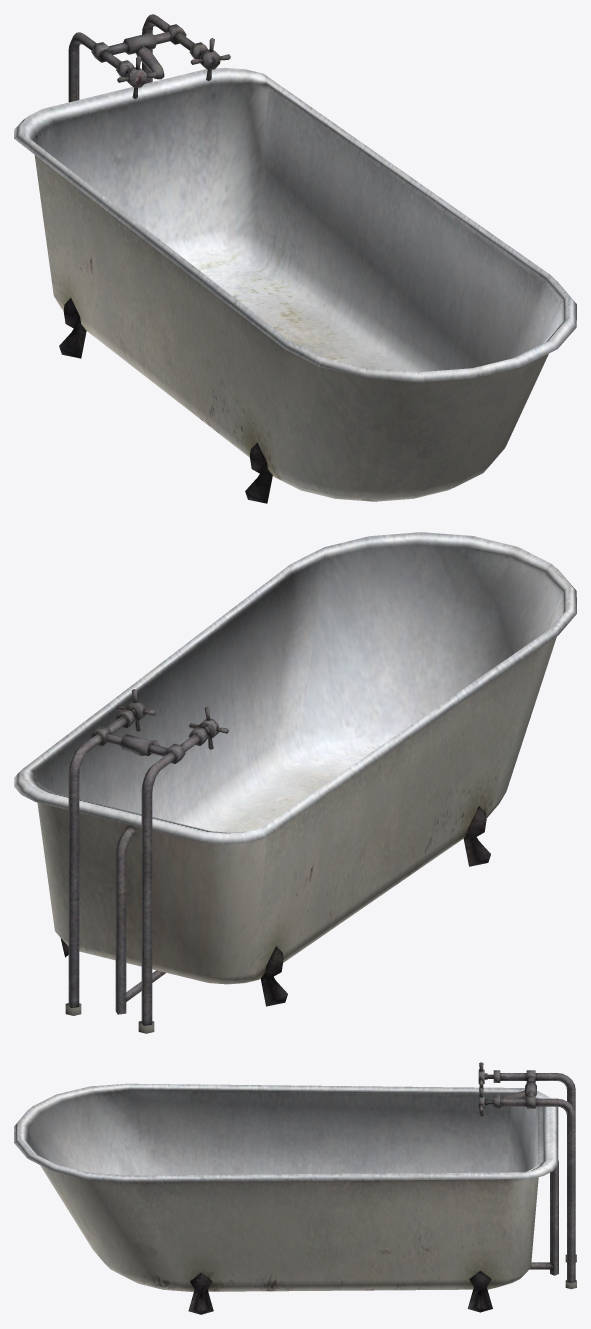
The model's file is clawfoot_tub.obj.
The picture shows the model from 3 angles, top to bottom: view 1: azimuth 30°, elevation 25°; view 2: azimuth 150°, elevation 25°; view 3: azimuth 270°, elevation 25°; orthographic projection. The views are drawn at different scales.
Visible parts, largest first — view 1: Model001_4_tub_1_0_0; view 2: Model001_4_tub_1_0_0; view 3: Model001_4_tub_1_0_0.
Part boxes in pixels (<box>): Model001_4_tub_1_0_0: <box>14,14,576,503</box>; Model001_4_tub_1_0_0: <box>14,532,576,1033</box>; Model001_4_tub_1_0_0: <box>14,1062,576,1314</box>.
Bounding box in the file's own units: 1.01 × 0.9835 × 2.51.
